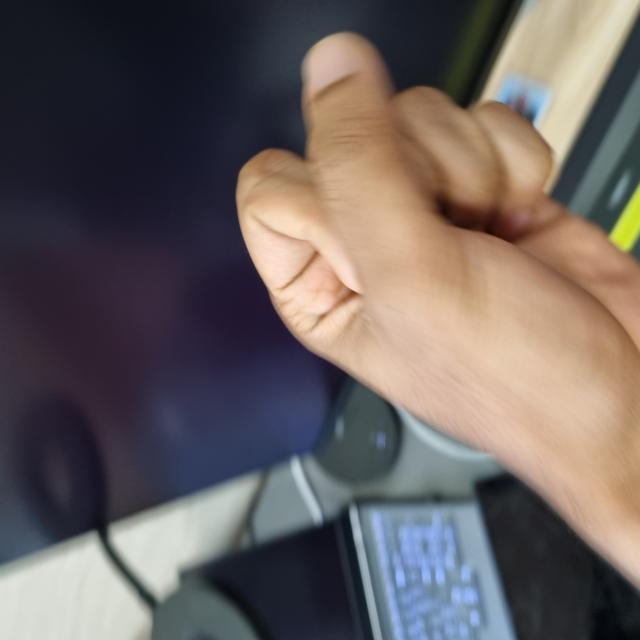Rock: (109, 236, 602, 640)
